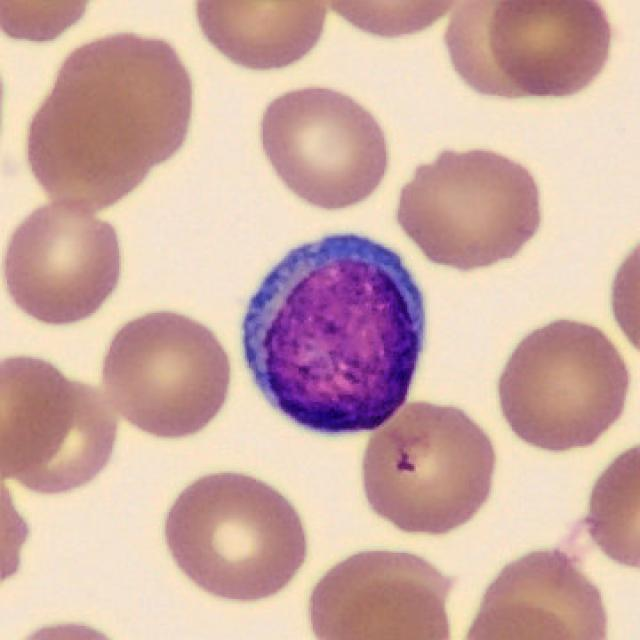Linfocito: (242, 235, 425, 437)
